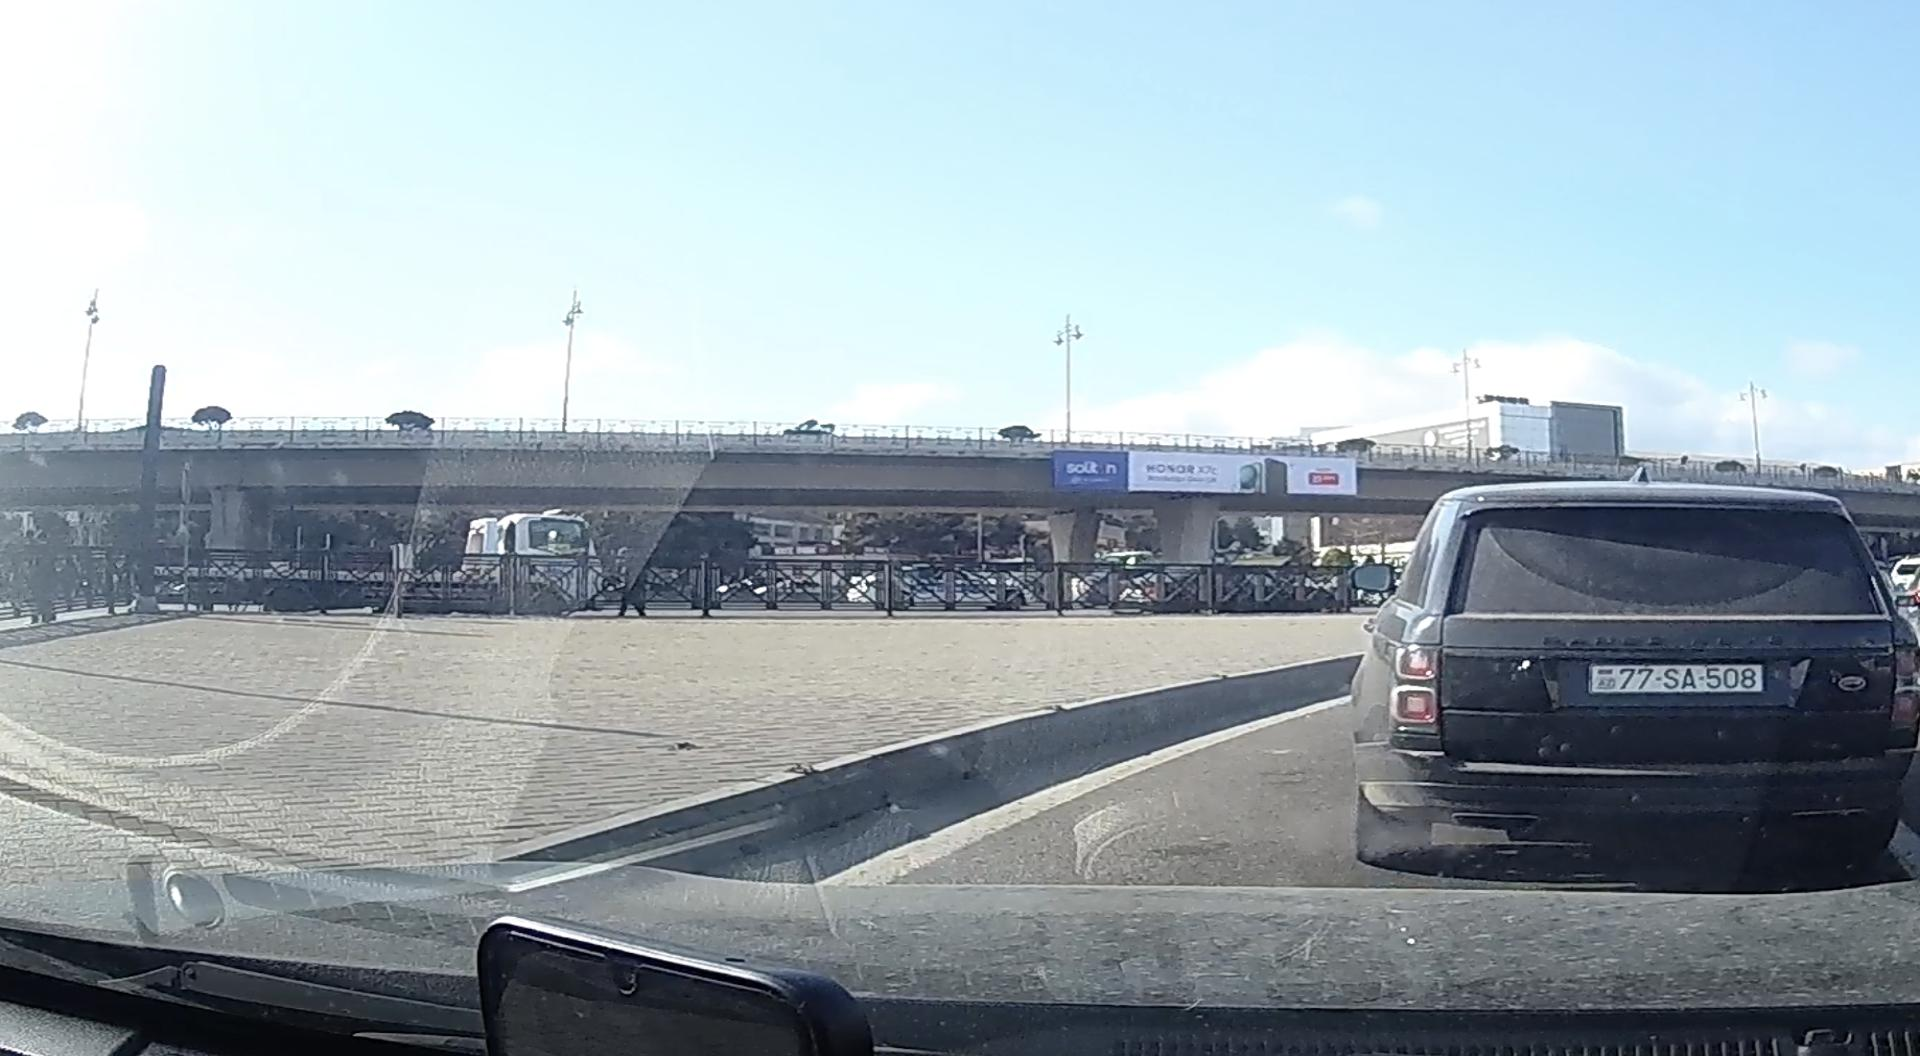banner: (1050, 447, 1362, 503)
